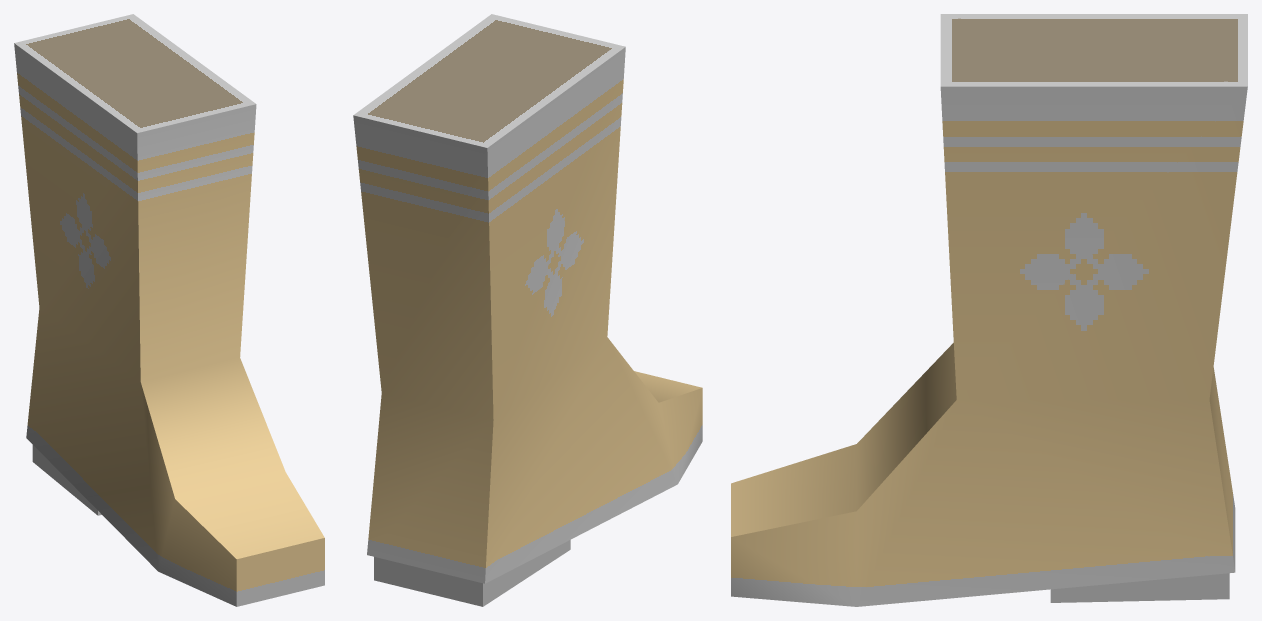
Rendered from 0132_Kid_s_Boot.glb.
3 views of the same model, side by side, from view 1: azimuth 30°, elevation 25°; view 2: azimuth 150°, elevation 25°; view 3: azimuth 270°, elevation 25° (orthographic). The views are drawn at different scales.
Visible parts, largest first — view 1: part_0; view 2: part_0; view 3: part_0.
Part boxes in pixels (box(x1,y1,x2,y2)): part_0: box(14, 14, 324, 606); part_0: box(353, 14, 702, 606); part_0: box(731, 14, 1247, 606).
Size of the model in its own units: 0.0906 by 0.2492 by 0.2247.
Materials: 1 (1 with a texture image).
